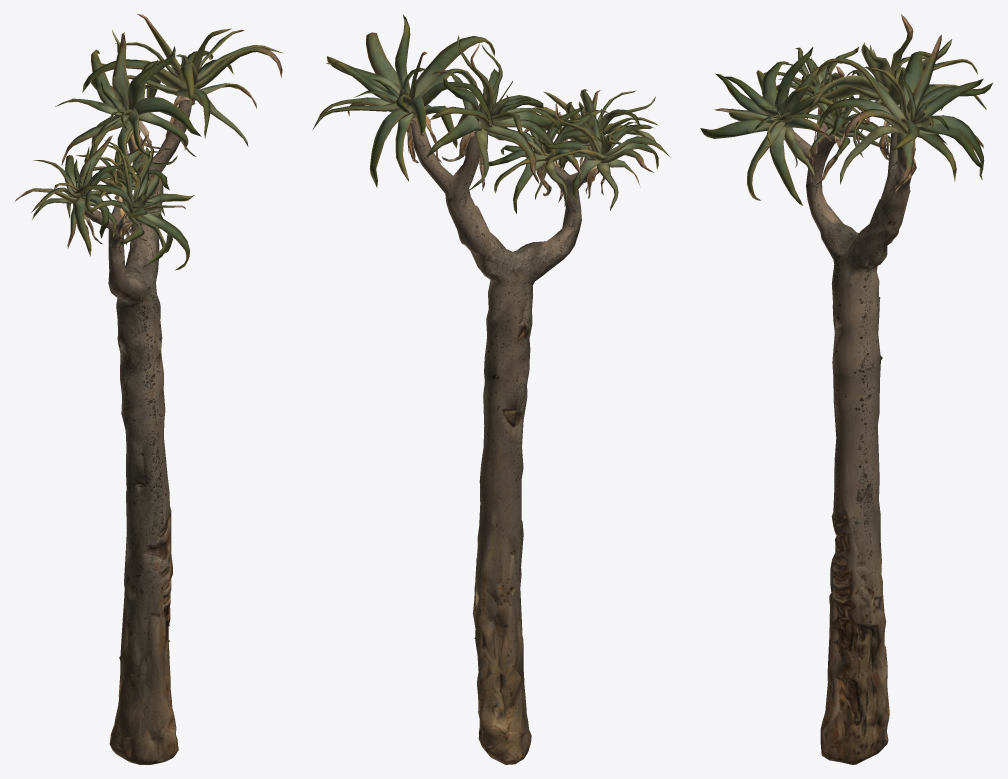
Rendered from tree-quiver-01.8777b0ae.glb.
3 renders of one model, left to right at view 1: azimuth 30°, elevation 25°; view 2: azimuth 150°, elevation 25°; view 3: azimuth 270°, elevation 25°, orthographic. The views are drawn at different scales.
Parts seen in each view (by area): view 1: model; view 2: model; view 3: model.
Boxes of the visible parts, x1,y1,x2,y2 form: model: (15,14,283,764); model: (312,14,670,764); model: (700,14,992,764).
Bounding box in the file's own units: 1.18 × 2.72 × 0.9676.
Materials: 2 (2 with a texture image).
